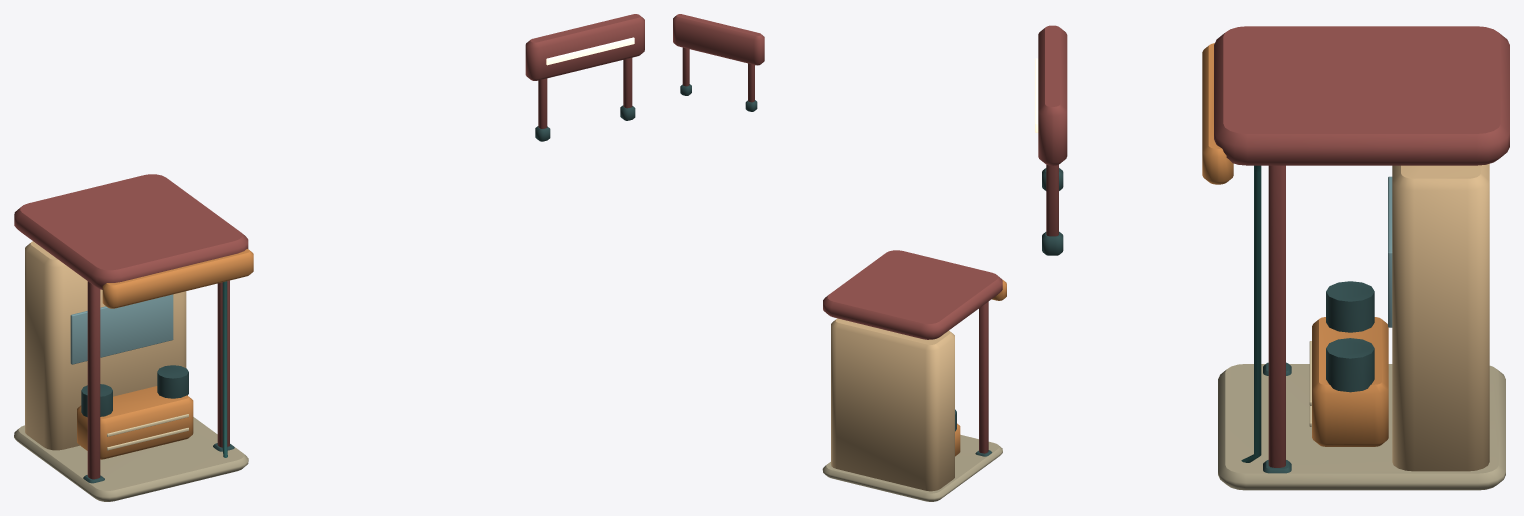
File: route66_restoration_4.glb
The picture shows the model from 3 angles, left to right: view 1: azimuth 30°, elevation 25°; view 2: azimuth 150°, elevation 25°; view 3: azimuth 270°, elevation 25°; orthographic projection. The views are drawn at different scales.
Visible parts, largest first — view 1: Route66Restoration4; view 2: Route66Restoration4; view 3: Route66Restoration4.
Boxes of the visible parts, <box> form: Route66Restoration4: <box>14,14,644,501</box>; Route66Restoration4: <box>673,14,1006,501</box>; Route66Restoration4: <box>1035,25,1509,490</box>.
Bounding box in the file's own units: 7.47 × 6.03 × 4.09.
